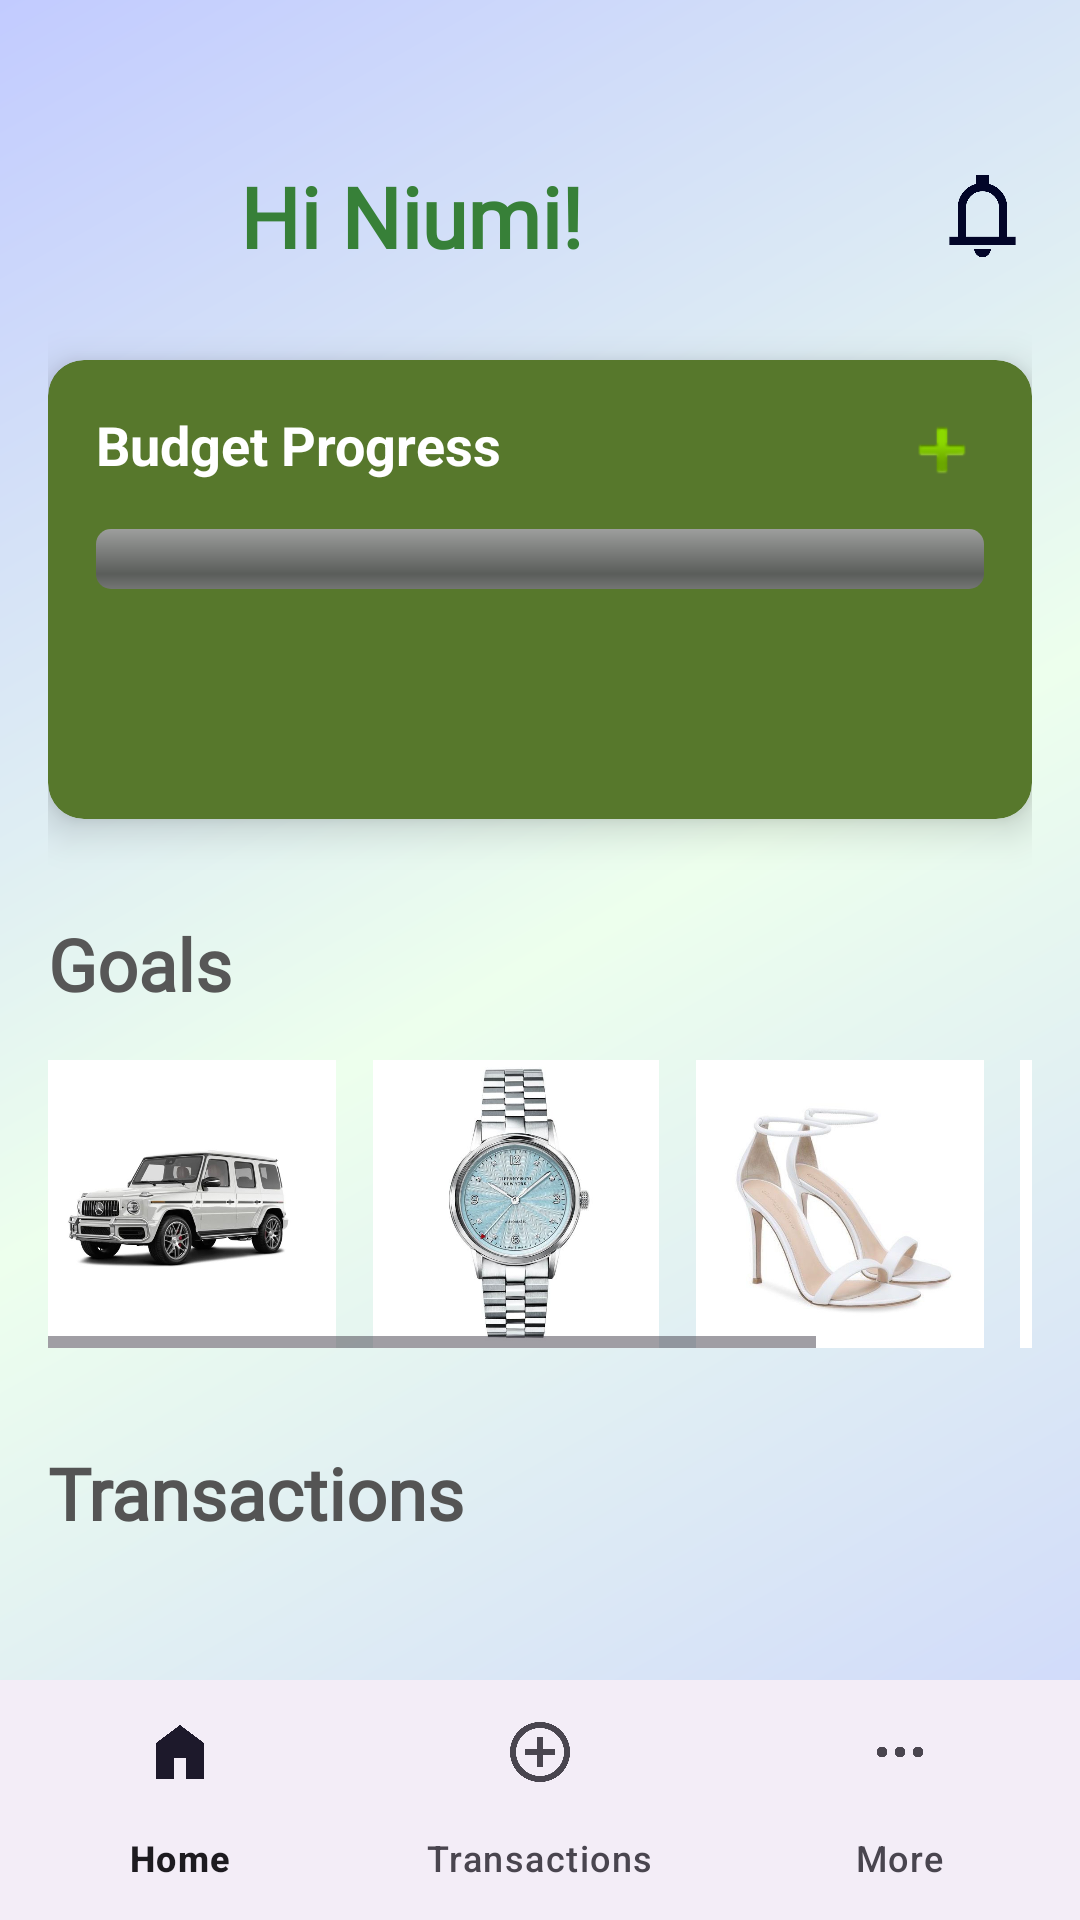

Named icons in this screenshot (1080w x 1920h) and their centers, [x,y]:
Add Budget: [942,450]
Car Goal: [178,1209]
Notifications: [982,216]
Shoes Goal: [840,1204]
Watch Goal: [516,1204]
